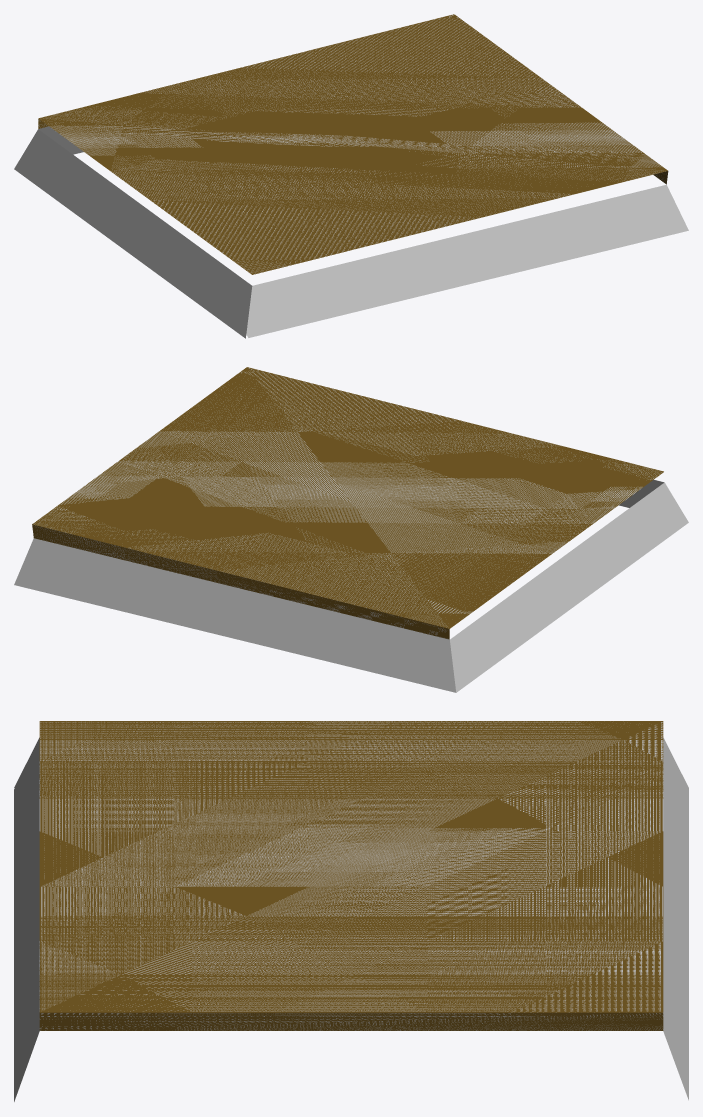
The model's file is original-38.obj.
The picture shows the model from 3 angles, top to bottom: view 1: azimuth 30°, elevation 25°; view 2: azimuth 150°, elevation 25°; view 3: azimuth 270°, elevation 25°; orthographic projection. The views are drawn at different scales.
Parts seen in each view (by area): view 1: tus36/tus/mesh1/mesh1-geometry#mesh1-geometry; view 2: tus36/tus/mesh1/mesh1-geometry#mesh1-geometry; view 3: tus36/tus/mesh1/mesh1-geometry#mesh1-geometry.
Boxes of the visible parts, x1,y1,x2,y2 form: tus36/tus/mesh1/mesh1-geometry#mesh1-geometry: [14, 14, 688, 338]; tus36/tus/mesh1/mesh1-geometry#mesh1-geometry: [14, 367, 688, 692]; tus36/tus/mesh1/mesh1-geometry#mesh1-geometry: [14, 721, 688, 1101].
Bounding box in the file's own units: 0.0476 × 0.00578 × 0.0432.
